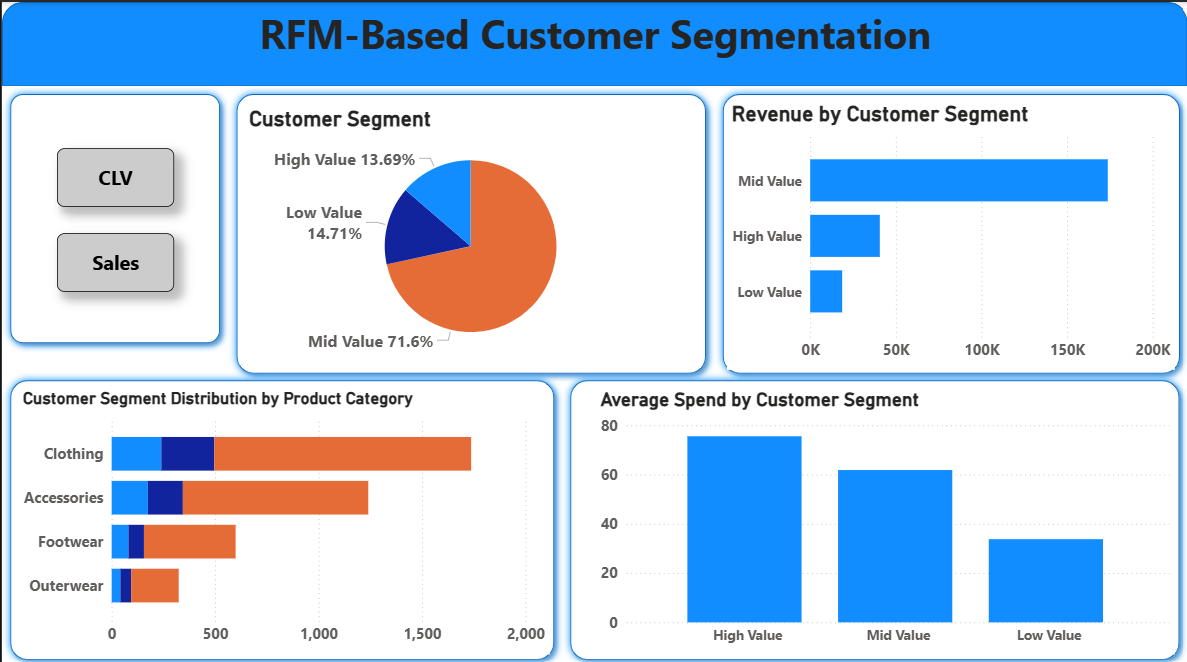

The page's visual inventory and layout, read from the dashboard file:
{"tool":"powerbi","page":{"name":"Customer Segmentation (RFM)","canvas":[1280,720],"ordinal":1},"visuals":[{"type":"shape","box":[0,0,1280.3,90.6],"z":0},{"type":"textbox","box":[0,0,1280.3,70],"z":1},{"type":"shape","box":[0,90.1,244.2,286.8],"z":2},{"type":"card","title":"v","fields":{"Values":["Sum(public customer.High_Value_Count)"]},"box":[18,111.4,208.1,245.8],"z":4},{"type":"shape","box":[244.2,90.1,524.5,319.6],"z":5},{"type":"pieChart","title":" Customer Segment","fields":{"Category":["public customer.Customer_Segment"],"Y":["Sum(public customer.customer_id)"]},"box":[262.2,111.4,488.4,277],"z":6},{"type":"shape","box":[768.7,90.1,511.3,319.6],"z":7},{"type":"shape","box":[0,399.9,604.8,319.6],"z":8},{"type":"shape","box":[604.8,399.9,675.2,319.6],"z":9},{"type":"clusteredBarChart","title":"Revenue by Customer Segment","fields":{"Category":["public customer.Customer_Segment"],"Y":["Sum(public customer.purchase_amount_usd)"]},"box":[781.8,106.5,483.5,290.1],"z":10},{"type":"barChart","title":"Customer Segment Distribution by Product Category","fields":{"Category":["public customer.category"],"Y":["CountNonNull(public customer.customer_id)"],"Series":["public customer.Customer_Segment"]},"box":[18,416.3,573.6,286.8],"z":11},{"type":"clusteredColumnChart","title":"Average Spend by Customer Segment","fields":{"Y":["public customer.Average Purchase Amount"],"Category":["public customer.Customer_Segment"]},"box":[640.8,416.3,624.4,286.8],"z":12}]}

Visuals, with their boxes in screenshot pixels (x1, y1, x2, y2), scaled from the page's 1280x720 canvas onto the 1187x662 screenshot:
shape: 0 0 1186 83
textbox: 0 0 1186 64
shape: 0 83 226 347
"v" card: 17 102 210 328
shape: 226 83 713 377
" Customer Segment" pieChart: 243 102 696 357
shape: 713 83 1186 377
shape: 0 368 561 661
shape: 561 368 1186 661
"Revenue by Customer Segment" clusteredBarChart: 725 98 1173 365
"Customer Segment Distribution by Product Category" barChart: 17 383 549 646
"Average Spend by Customer Segment" clusteredColumnChart: 594 383 1173 646
